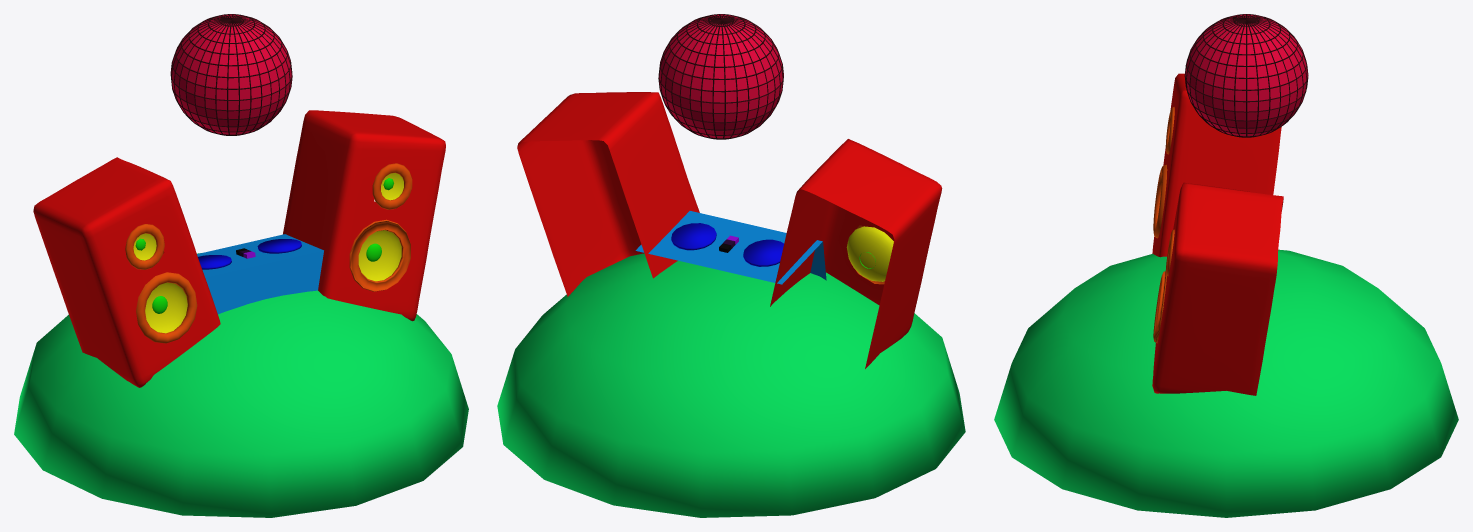
File: Discoteca.fbx
3 views of the same model, side by side, from view 1: azimuth 30°, elevation 25°; view 2: azimuth 150°, elevation 25°; view 3: azimuth 270°, elevation 25° (orthographic). The views are drawn at different scales.
Parts seen in each view (by area): view 1: Rhythim Cove; view 2: Rhythim Cove; view 3: Rhythim Cove.
Part boxes in pixels (left/top/right/bottom): Rhythim Cove: left=14, top=14, right=468, bottom=517; Rhythim Cove: left=497, top=14, right=965, bottom=517; Rhythim Cove: left=994, top=14, right=1458, bottom=517.
Bounding box in the file's own units: 2.57 × 2.44 × 2.57.
